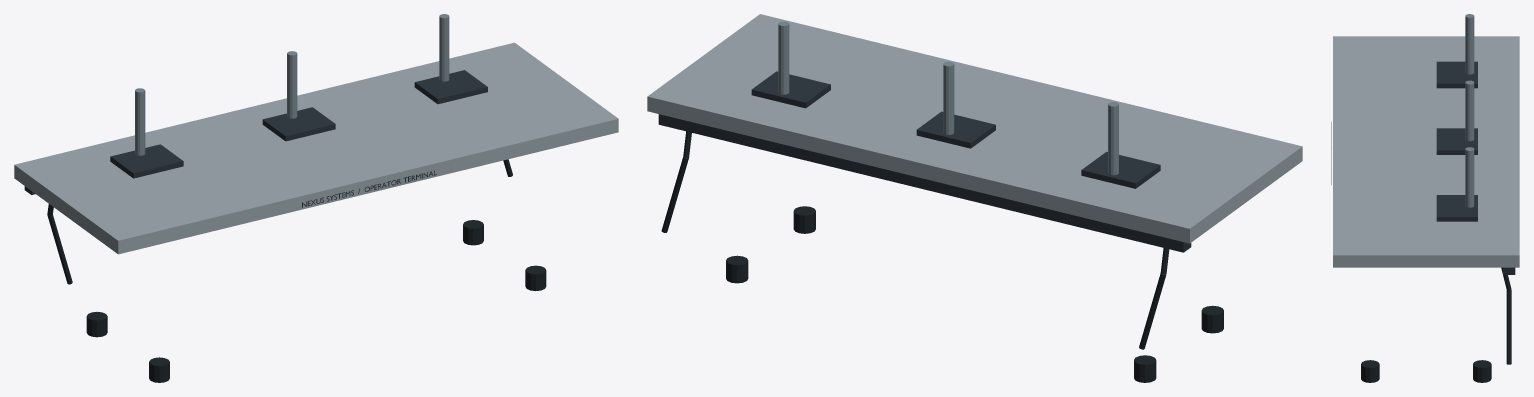
File: SM_Lab_Console.fbx
The picture shows the model from 3 angles, left to right: view 1: azimuth 30°, elevation 25°; view 2: azimuth 150°, elevation 25°; view 3: azimuth 270°, elevation 25°; orthographic projection. The views are drawn at different scales.
Visible parts, largest first — view 1: SM_Lab_Console; view 2: SM_Lab_Console; view 3: SM_Lab_Console.
Boxes of the visible parts, x1=… form: SM_Lab_Console: x1=14, y1=14, x2=618, y2=382; SM_Lab_Console: x1=647, y1=14, x2=1302, y2=382; SM_Lab_Console: x1=1331, y1=14, x2=1519, y2=382.
Size of the model in its own units: 250 by 90.74 by 114.
